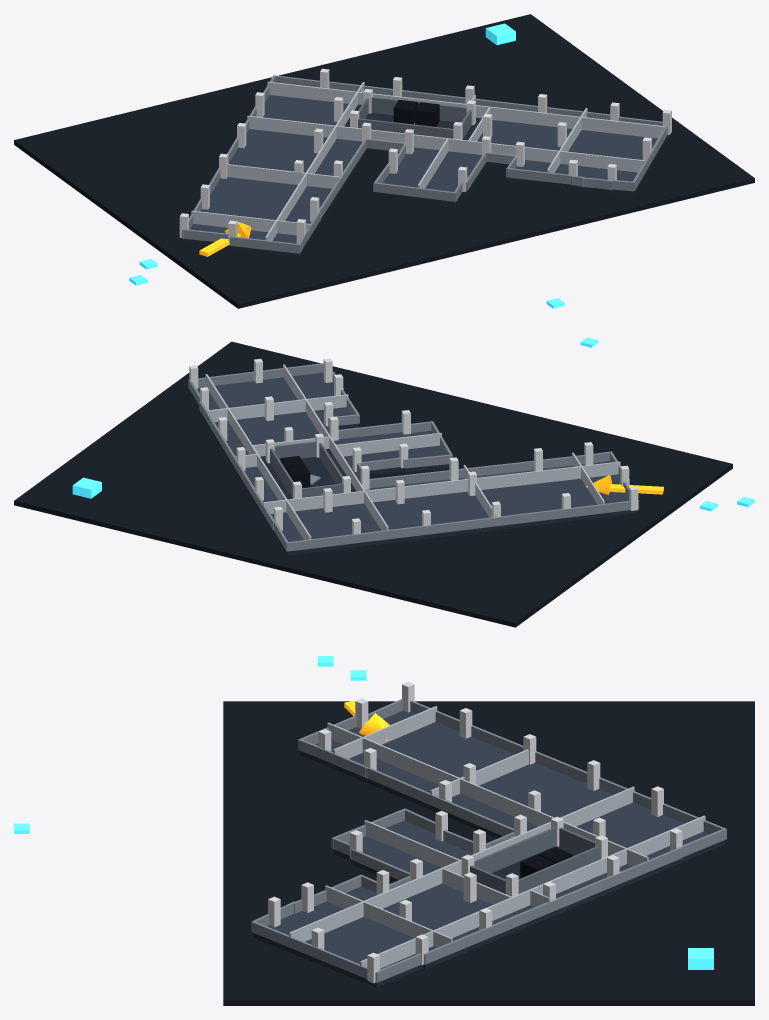
The picture shows the model from 3 angles, top to bottom: view 1: azimuth 30°, elevation 25°; view 2: azimuth 150°, elevation 25°; view 3: azimuth 270°, elevation 25°; orthographic projection. The views are drawn at different scales.
Visible parts, largest first — view 1: FireSight 140 New Montgomery St floor 17; view 2: FireSight 140 New Montgomery St floor 17; view 3: FireSight 140 New Montgomery St floor 17.
Part boxes in pixels (x1=…): FireSight 140 New Montgomery St floor 17: x1=14, y1=14, x2=754, y2=308; FireSight 140 New Montgomery St floor 17: x1=14, y1=337, x2=754, y2=627; FireSight 140 New Montgomery St floor 17: x1=14, y1=656, x2=754, y2=1005.
Bounding box in the file's own units: 0.7889 × 0.043 × 0.7372.
